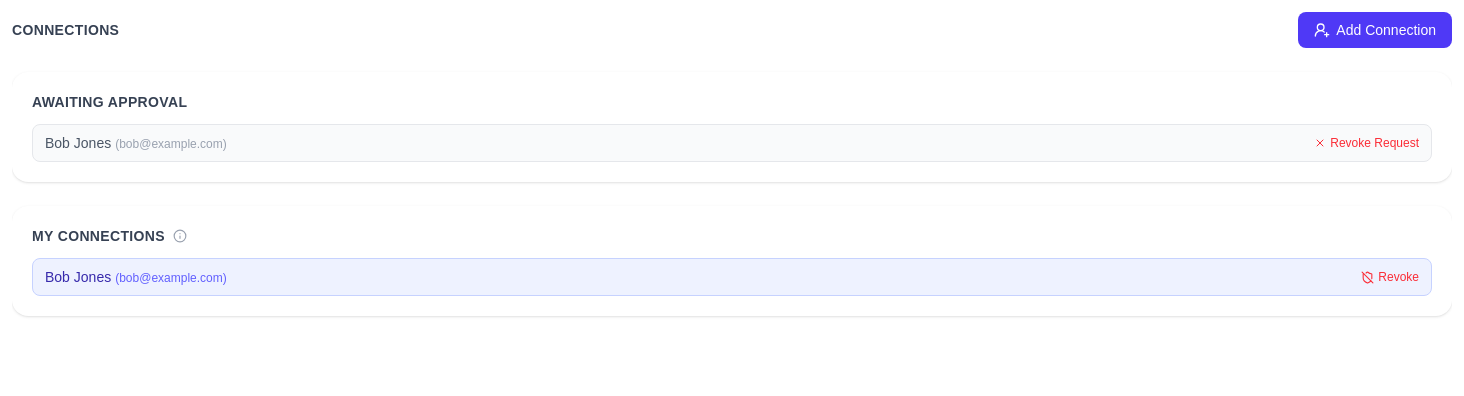
ConnectionsPanel — interactions › shows error when cancelPinRequest fails
The image size is (1464, 396).
What coordinates should you click on to do the following:
click the button with aria-label "revoke request to bob"
I would click on:
 (1367, 143)
Its box is 1314,135 -> 1419,151.
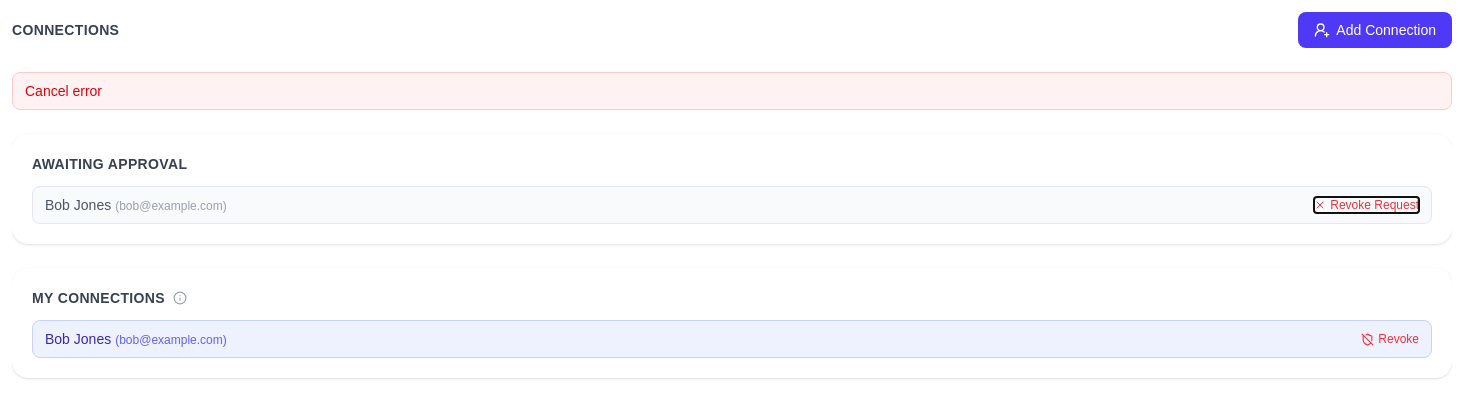
Expected: the text "Cancel error" is shown, 12,72 -> 1452,110
